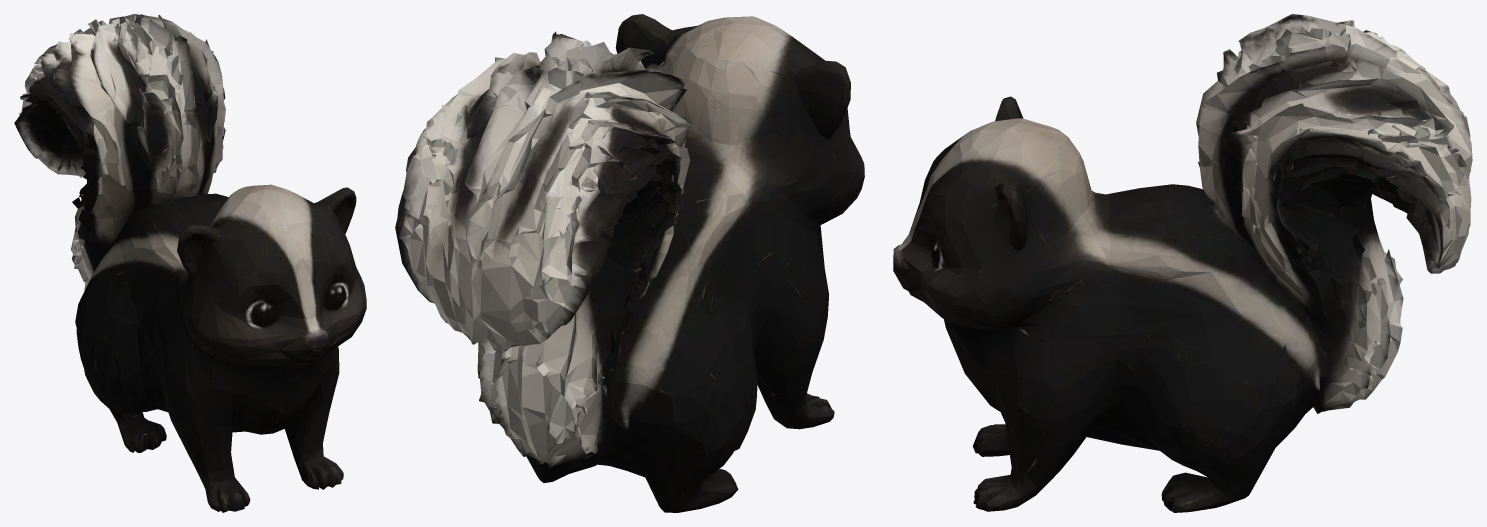
Rendered from skunk.glb.
The picture shows the model from 3 angles, left to right: view 1: azimuth 30°, elevation 25°; view 2: azimuth 150°, elevation 25°; view 3: azimuth 270°, elevation 25°; orthographic projection. The views are drawn at different scales.
Visible parts, largest first — view 1: geometry_0; view 2: geometry_0; view 3: geometry_0.
Part boxes in pixels (x1=…): geometry_0: x1=14, y1=14, x2=366, y2=512; geometry_0: x1=395, y1=14, x2=864, y2=512; geometry_0: x1=893, y1=14, x2=1472, y2=512.
Size of the model in its own units: 0.4243 by 0.8276 by 0.9905.
1 material, 1 textured.
